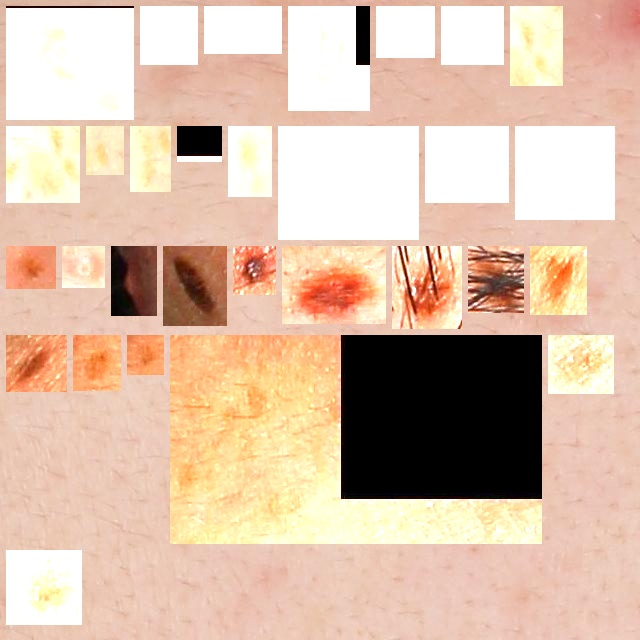melasma: (178, 343, 534, 536), (286, 134, 411, 232), (14, 14, 126, 112), (523, 134, 607, 212), (296, 14, 362, 103), (433, 134, 501, 195), (14, 558, 74, 617), (14, 134, 72, 195), (518, 14, 555, 78), (556, 343, 606, 386), (449, 14, 496, 57), (212, 14, 274, 46), (148, 14, 190, 57), (384, 14, 427, 50), (236, 134, 264, 189), (81, 343, 113, 383), (138, 134, 163, 184), (94, 134, 116, 167), (185, 134, 214, 154), (135, 343, 156, 367)
nevus: (290, 254, 378, 316), (400, 254, 454, 321), (171, 254, 219, 318), (538, 254, 579, 307), (476, 254, 516, 305), (14, 343, 59, 384), (14, 254, 48, 281), (241, 254, 268, 287)
pustule: (119, 254, 149, 308), (70, 254, 97, 280)
